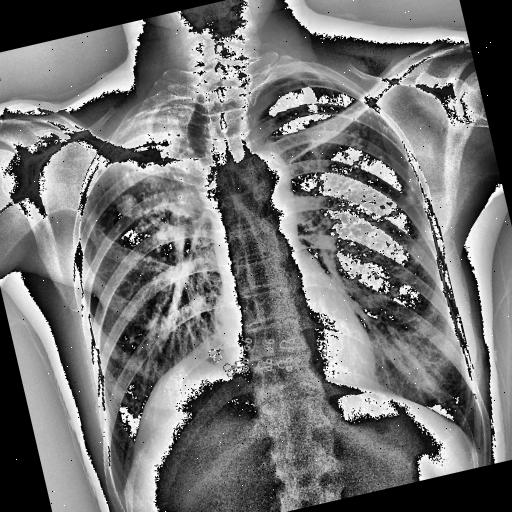1- Atelectasis: (77, 99, 189, 171)
11- Pleural thickening: (91, 78, 212, 174), (84, 102, 202, 170)
13- Pulmonary fibrosis: (314, 94, 444, 310), (304, 93, 438, 289), (312, 104, 438, 280), (68, 138, 210, 248), (81, 172, 195, 244)
2- Calcification: (314, 94, 444, 310), (304, 93, 438, 289), (70, 138, 214, 258), (398, 164, 420, 209)
6- Infiltration: (68, 138, 210, 248)
8- Nodule-Mass: (312, 104, 438, 280), (81, 172, 195, 244), (114, 194, 140, 218)
9- Other lesion: (312, 104, 438, 280), (81, 172, 195, 244), (114, 194, 140, 218)
